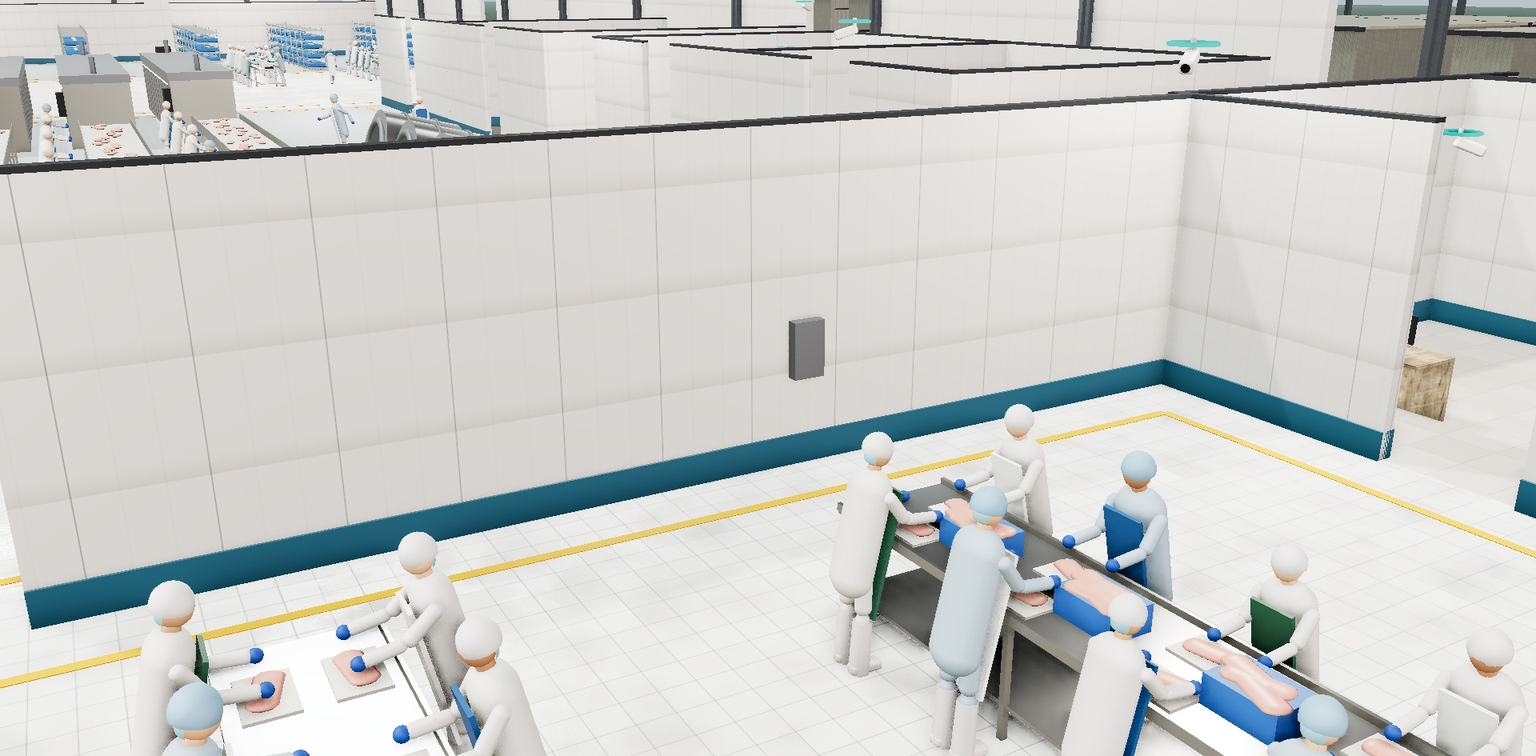apron: (1233, 588, 1317, 745), (947, 535, 1019, 703), (395, 582, 463, 756), (1092, 498, 1166, 651), (154, 634, 234, 756), (1076, 641, 1159, 756), (1411, 677, 1522, 756), (847, 477, 904, 622), (984, 447, 1043, 580), (450, 672, 529, 756), (173, 742, 268, 756), (1247, 747, 1360, 756), (44, 146, 64, 191), (44, 131, 61, 171), (43, 118, 60, 154), (175, 126, 191, 163), (329, 108, 343, 145), (163, 115, 178, 148), (416, 109, 429, 141)
glove: (1378, 718, 1407, 748), (389, 719, 415, 750), (346, 650, 371, 679), (254, 676, 278, 705), (1182, 675, 1207, 701), (332, 619, 356, 646), (1132, 644, 1156, 670), (244, 642, 267, 669), (1253, 651, 1277, 675), (1042, 570, 1065, 594), (1203, 623, 1226, 646), (1000, 545, 1022, 568), (1058, 531, 1080, 553), (1102, 555, 1124, 577), (927, 506, 947, 526), (286, 742, 314, 756), (985, 494, 1004, 513), (1313, 744, 1343, 756), (895, 487, 913, 506), (951, 476, 969, 494), (67, 137, 73, 142), (67, 136, 73, 141), (68, 155, 74, 160), (350, 120, 356, 125), (196, 132, 201, 137), (64, 124, 69, 129), (68, 153, 73, 158), (181, 121, 186, 125), (180, 120, 185, 124), (195, 131, 200, 135), (64, 123, 69, 127), (317, 117, 322, 121), (428, 122, 432, 127), (412, 124, 416, 127)
hairnet: (158, 661, 234, 744), (1285, 675, 1366, 749), (442, 599, 511, 669), (1453, 612, 1529, 675), (141, 564, 204, 628), (1098, 579, 1161, 636), (387, 518, 444, 574), (961, 473, 1020, 525), (1260, 531, 1320, 582), (1110, 440, 1167, 487), (854, 421, 904, 465), (995, 395, 1043, 435), (40, 126, 55, 137), (40, 113, 53, 122), (172, 110, 184, 119), (328, 92, 340, 101), (40, 102, 52, 110), (161, 100, 172, 108), (414, 95, 424, 101)
person: (905, 456, 1074, 756), (1046, 427, 1210, 726), (320, 502, 512, 756), (87, 543, 303, 756), (1184, 516, 1363, 756), (812, 409, 951, 690), (376, 576, 584, 756), (1032, 557, 1220, 756), (944, 385, 1080, 645), (93, 629, 357, 756), (1348, 591, 1536, 756), (1192, 645, 1437, 756), (462, 726, 676, 756), (27, 125, 82, 212), (29, 112, 81, 189), (314, 91, 360, 163), (30, 101, 76, 171), (162, 109, 207, 180), (152, 99, 191, 163), (407, 94, 436, 156)
